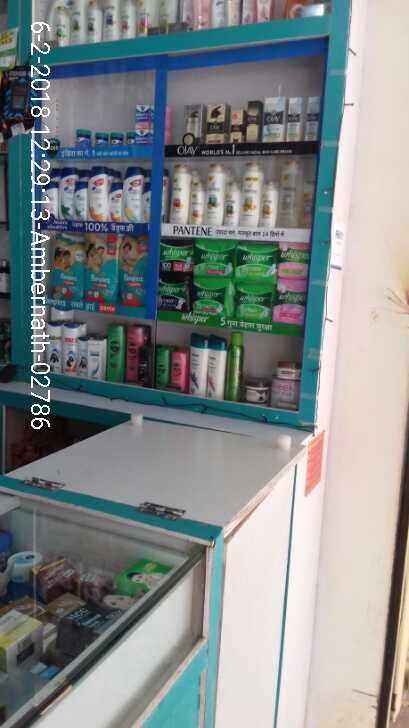beauty: (118, 168, 149, 223), (282, 161, 305, 228), (239, 160, 259, 226), (85, 166, 106, 224), (204, 157, 222, 223), (171, 164, 189, 223), (57, 166, 74, 222), (205, 100, 227, 143), (303, 98, 323, 145), (259, 181, 279, 226), (242, 96, 261, 143), (264, 94, 283, 140), (190, 177, 203, 230), (286, 92, 298, 145), (106, 185, 121, 221), (76, 183, 88, 221), (227, 185, 239, 222)
pharmacy: (44, 232, 86, 305), (84, 232, 118, 307), (116, 235, 146, 304), (238, 241, 280, 283), (272, 274, 306, 323), (236, 283, 273, 326), (190, 238, 232, 275), (191, 283, 236, 317), (156, 241, 195, 275), (160, 274, 193, 311), (275, 241, 308, 276), (69, 128, 119, 149), (129, 100, 152, 141)
